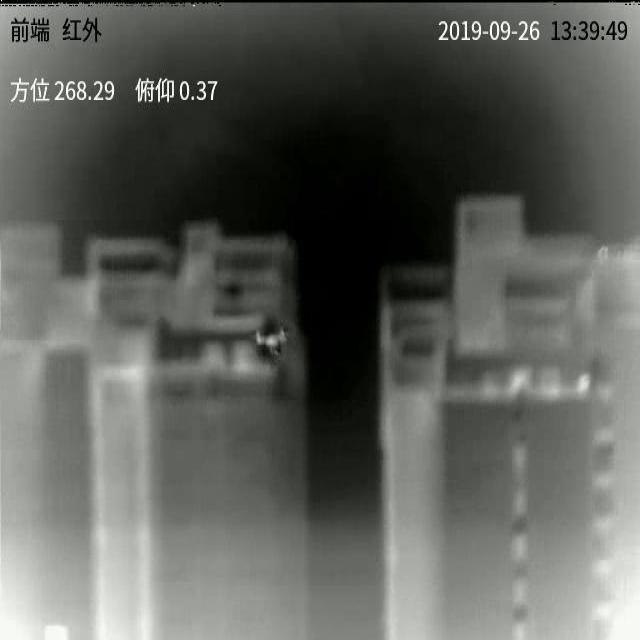drone: (253, 329, 288, 356)
